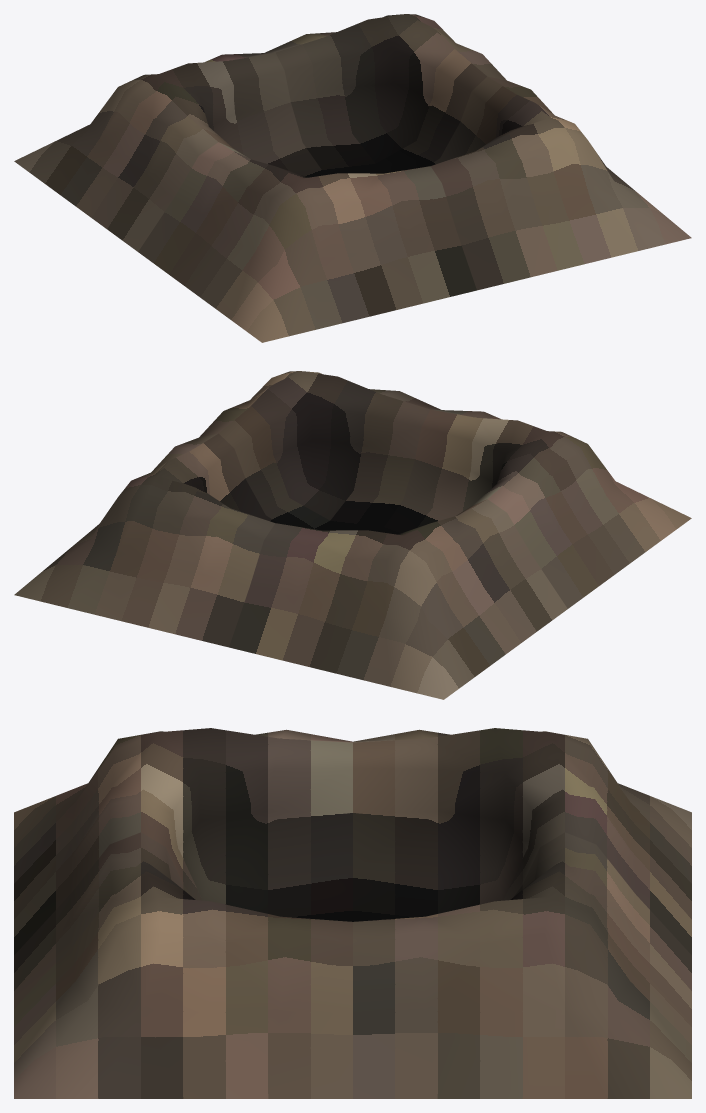
The model's file is crab_vent.obj.
3 renders of one model, top to bottom at view 1: azimuth 30°, elevation 25°; view 2: azimuth 150°, elevation 25°; view 3: azimuth 270°, elevation 25°, orthographic. The views are drawn at different scales.
Parts seen in each view (by area): view 1: crab_vent; view 2: crab_vent; view 3: crab_vent.
Boxes of the visible parts, left/top/right/bottom form: crab_vent: left=14, top=14, right=691, bottom=342; crab_vent: left=14, top=371, right=691, bottom=699; crab_vent: left=14, top=728, right=691, bottom=1098.
Size of the model in its own units: 1 by 0.2295 by 1.
